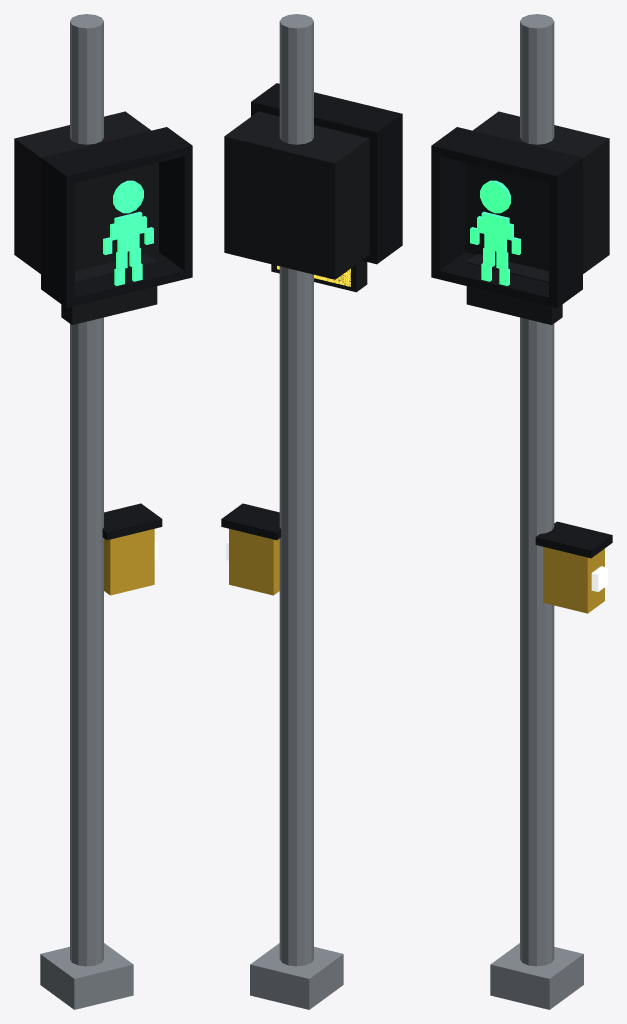
The model's file is pedestrian_signal.glb.
The picture shows the model from 3 angles, left to right: view 1: azimuth 30°, elevation 25°; view 2: azimuth 150°, elevation 25°; view 3: azimuth 330°, elevation 25°; orthographic projection.
Parts seen in each view (by area): view 1: Pole, Housing, Hood_top, Base, Hood_l, Hood_r, ButtonBox, Hood_bot, CountdownBox, ButtonRoof, Green_head, Green_torso_up; view 2: Pole, Housing, Base, Hood_l, Hood_top, ButtonBox, ButtonRoof, CountdownBox; view 3: Pole, Housing, Hood_top, Base, Hood_r, Hood_l, ButtonBox, Hood_bot, CountdownBox, ButtonRoof, Green_head, Green_torso_up.
Boxes of the visible parts, x1,y1,x2,y2 form: Pole: (70,14,103,966); Housing: (14,111,158,273); Hood_top: (41,127,192,184); Base: (40,943,133,1009); Hood_l: (41,166,74,299); Hood_r: (159,154,192,270); ButtonBox: (104,529,154,595); Hood_bot: (41,252,192,307); CountdownBox: (61,254,157,324); ButtonRoof: (102,503,162,540); Green_head: (113,180,143,213); Green_torso_up: (114,211,142,237); Pole: (279,14,313,966); Housing: (224,111,369,279); Base: (250,943,343,1009); Hood_l: (369,122,402,255); Hood_top: (251,83,402,140); ButtonBox: (229,528,279,595); ButtonRoof: (221,503,281,540); CountdownBox: (271,260,367,292); Pole: (520,14,554,966); Housing: (465,111,609,273); Hood_top: (431,127,582,184); Base: (490,943,583,1009); Hood_r: (549,166,582,299); Hood_l: (431,154,465,270); ButtonBox: (543,547,604,613); Hood_bot: (431,252,582,307); CountdownBox: (466,254,562,324); ButtonRoof: (535,521,612,558); Green_head: (480,180,510,213); Green_torso_up: (481,211,509,238).
Bounding box in the file's own units: 0.0348 × 0.25 × 0.028.
